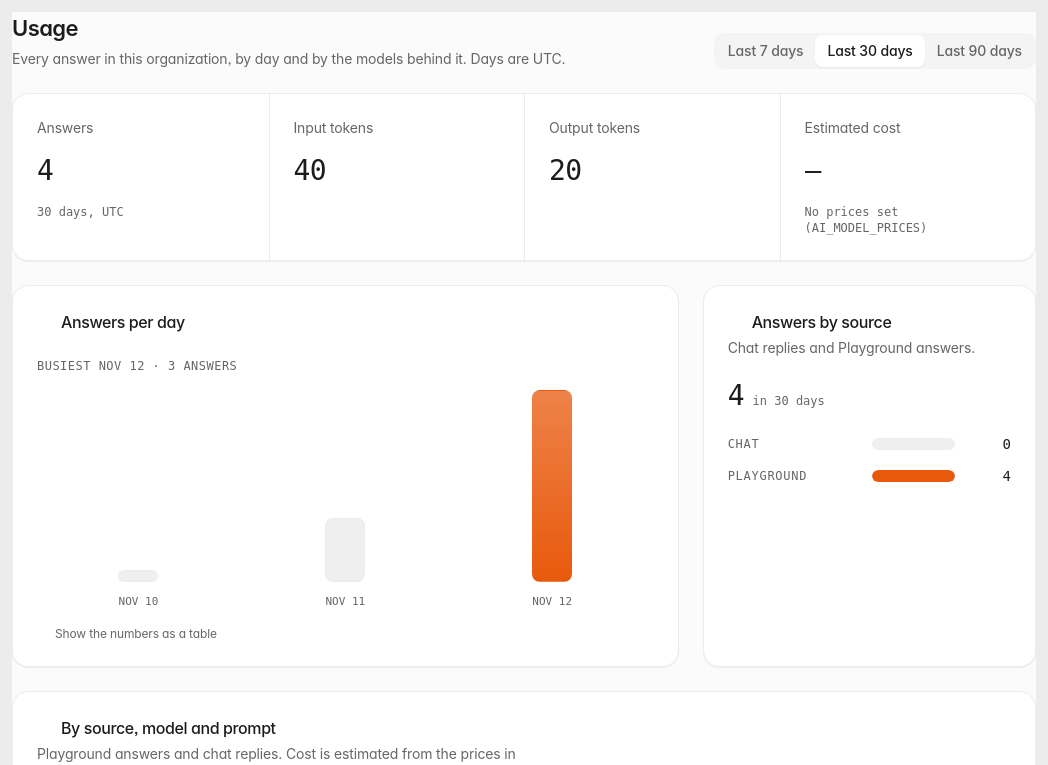
Test: UsageContainer (mocked API) › loads 30 days, switches range, and says whose answers these are
expect the heading "Answers per day" is shown: met, box [61, 312, 185, 332]
expect the text "Every answer in this organization" is shown: met, box [12, 50, 565, 67]
Click the button "Last 7 days" at (766, 51), box [716, 35, 815, 67]
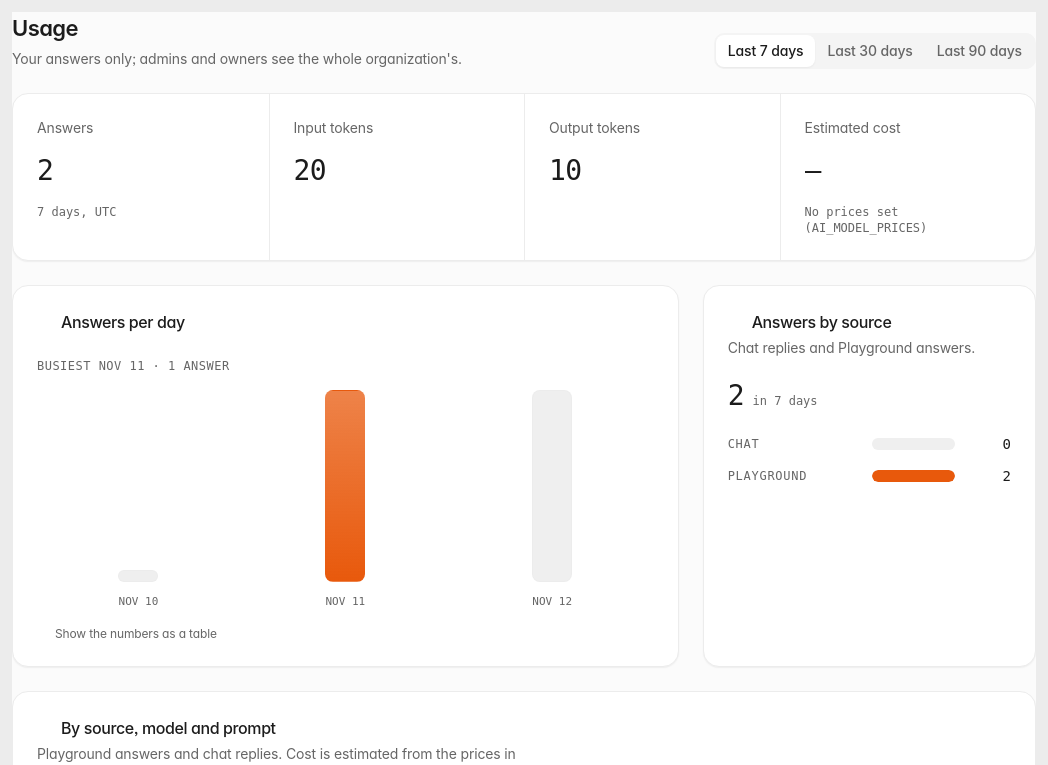
expect the text "Your answers only" is shown: met, box [12, 50, 462, 67]
